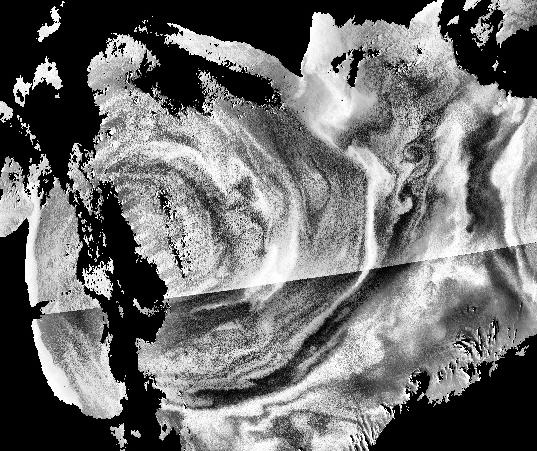AE: (23, 89, 384, 418)
CE: (404, 141, 431, 169)
